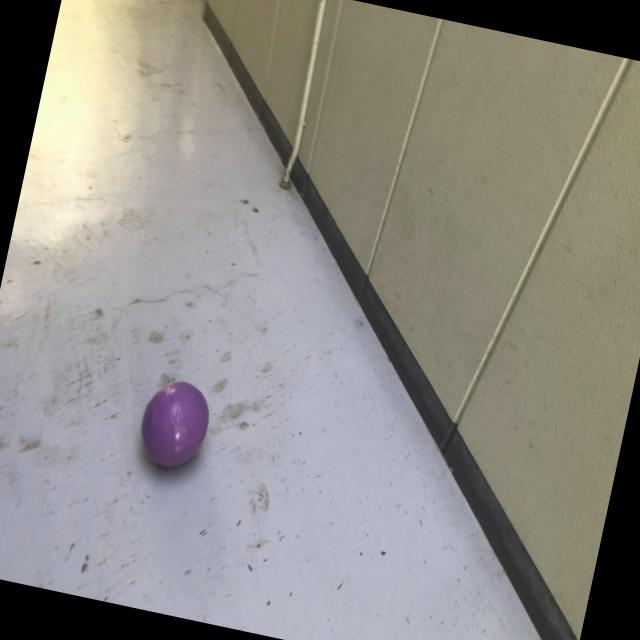purple_ball: (134, 375, 216, 474)
